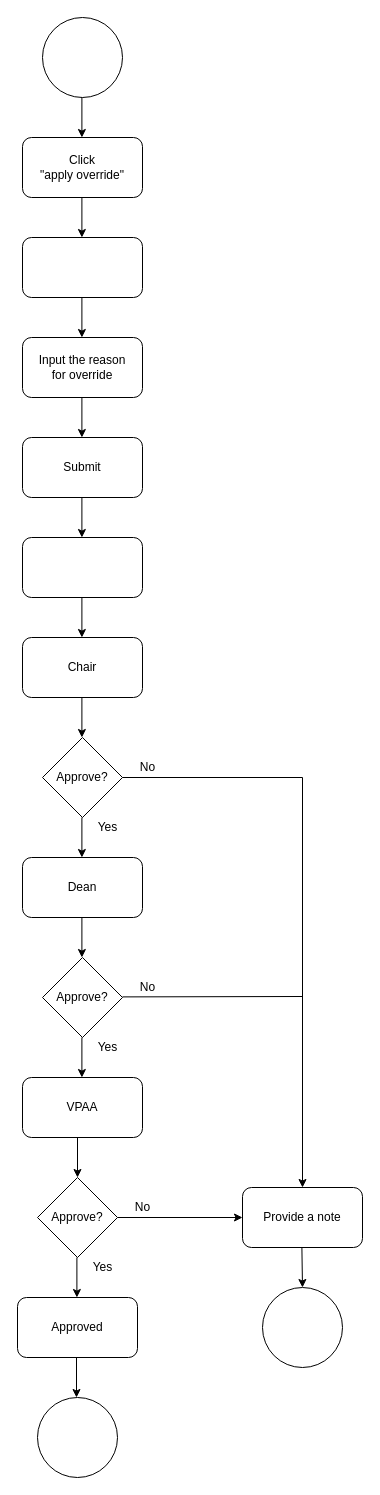
Some shapes in this 380 by 1495 pixel diagram are drawn without their labels. Each missing label, with the box of its shape:
INC: (42, 16, 122, 98)
Registrar will print the study load: (36, 1396, 118, 1478)
Rejected: (262, 1286, 342, 1368)
Select the course that you would like to enroll: (22, 236, 142, 298)
The request will be reviewed and endorsed: (22, 536, 142, 598)
